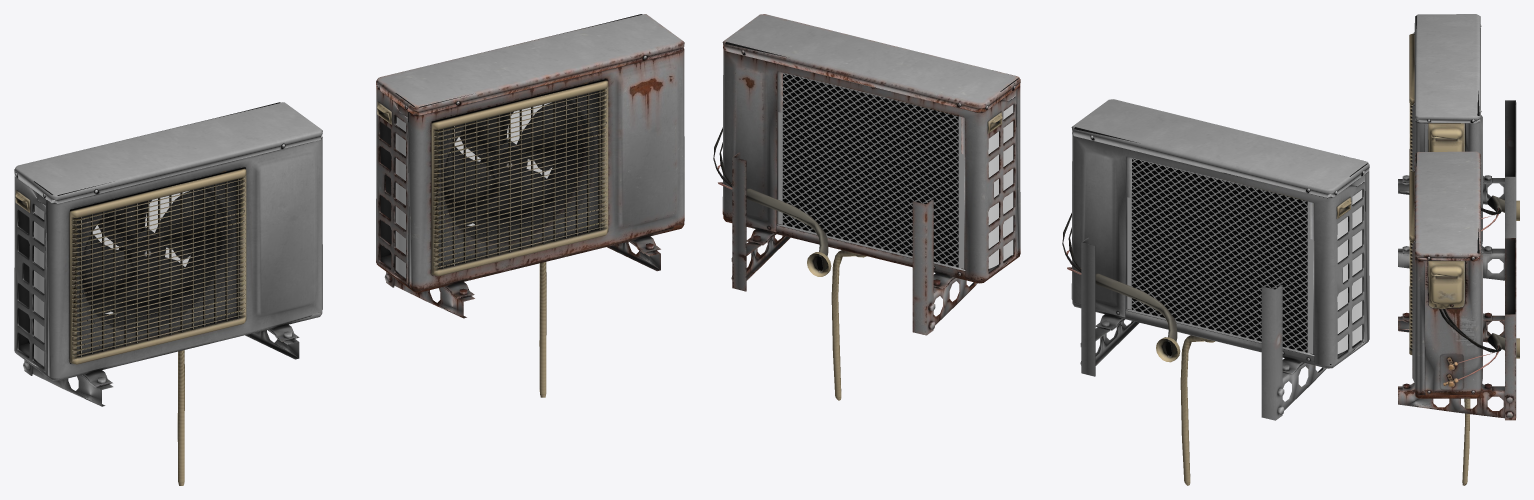
Rendered from exterior_aircon_unit_2k.gltf.
3 views of the same model, side by side, from view 1: azimuth 30°, elevation 25°; view 2: azimuth 150°, elevation 25°; view 3: azimuth 270°, elevation 25° (orthographic). The views are drawn at different scales.
Visible parts, largest first — view 1: exterior_aircon_unit_rusted, exterior_aircon_unit; view 2: exterior_aircon_unit_rusted, exterior_aircon_unit; view 3: exterior_aircon_unit_rusted, exterior_aircon_unit.
Boxes of the visible parts, x1,y1,x2,y2 form: exterior_aircon_unit_rusted: (376, 14, 684, 397); exterior_aircon_unit: (14, 102, 322, 485); exterior_aircon_unit_rusted: (713, 14, 1020, 400); exterior_aircon_unit: (1062, 99, 1369, 485); exterior_aircon_unit_rusted: (1398, 151, 1519, 485); exterior_aircon_unit: (1398, 14, 1519, 280).
Bounding box in the file's own units: 1.8 × 0.9276 × 0.3742.
Materials: 4 (4 with a texture image).
